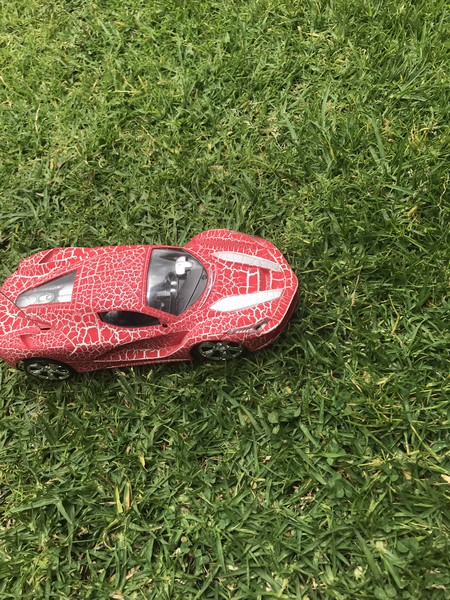RC: (1, 227, 299, 383)
